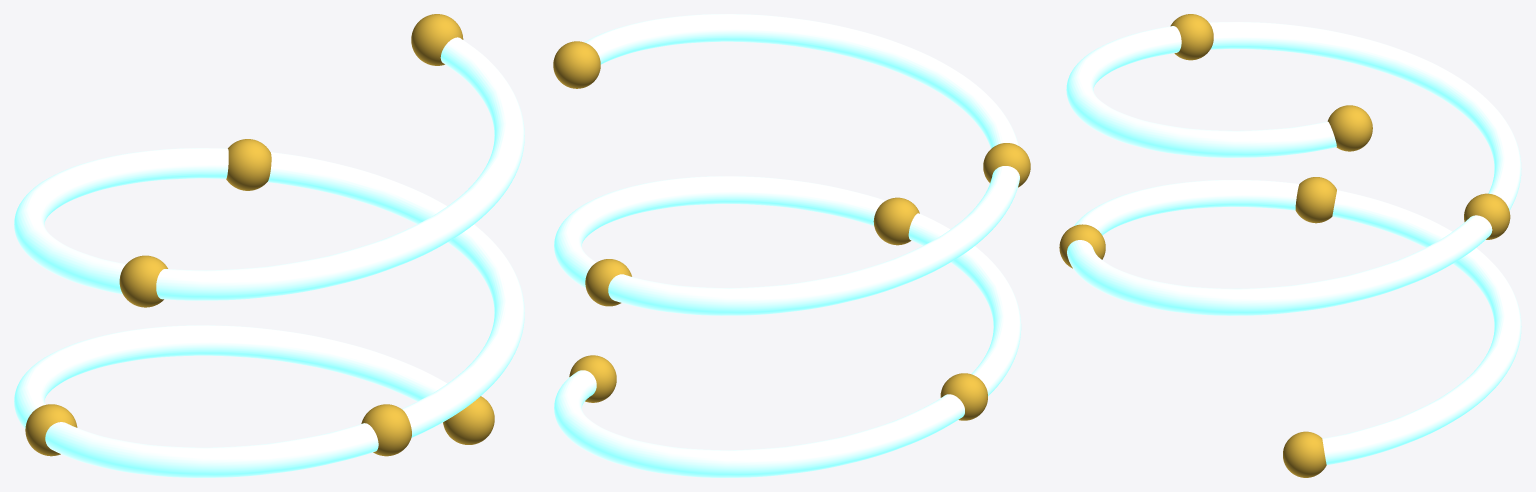
Rendered from espiral.glb.
3 views of the same model, side by side, from view 1: azimuth 30°, elevation 25°; view 2: azimuth 150°, elevation 25°; view 3: azimuth 270°, elevation 25° (orthographic). The views are drawn at different scales.
Visible parts, largest first — view 1: Spiral.001, Cube_E4, Cube_E5, Cube_E3, Cube_E6, Cube_E1, Cube_E2; view 2: Spiral.001, Cube_E6, Cube_E3, Cube_E2, Cube_E4, Cube_E5, Cube_E1; view 3: Spiral.001, Cube_E1, Cube_E6, Cube_E2, Cube_E5, Cube_E4, Cube_E3.
Boxes of the visible parts, x1,y1,x2,y2 form: Spiral.001: (14,37,524,477); Cube_E4: (226,139,271,190); Cube_E5: (119,255,167,307); Cube_E3: (361,404,411,456); Cube_E6: (411,14,463,65); Cube_E1: (443,396,494,444); Cube_E2: (25,404,77,456); Spiral.001: (554,14,1021,477); Cube_E6: (553,41,600,88); Cube_E3: (873,197,919,245); Cube_E2: (940,373,987,420); Cube_E4: (585,259,631,306); Cube_E5: (983,143,1030,187); Cube_E1: (569,355,616,402); Spiral.001: (1066,22,1521,464); Cube_E1: (1283,431,1326,477); Cube_E6: (1327,105,1372,151); Cube_E2: (1295,177,1336,223); Cube_E5: (1170,14,1213,60); Cube_E4: (1464,193,1510,239); Cube_E3: (1059,224,1105,268).
Bounding box in the file's own units: 19.53 × 16.76 × 19.21.
